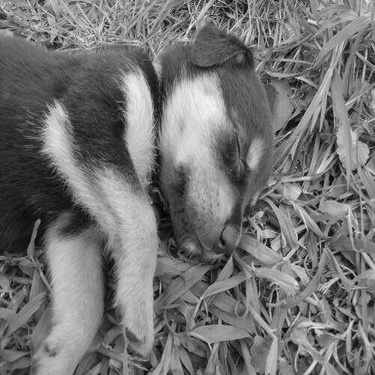dog: (4, 18, 304, 371)
